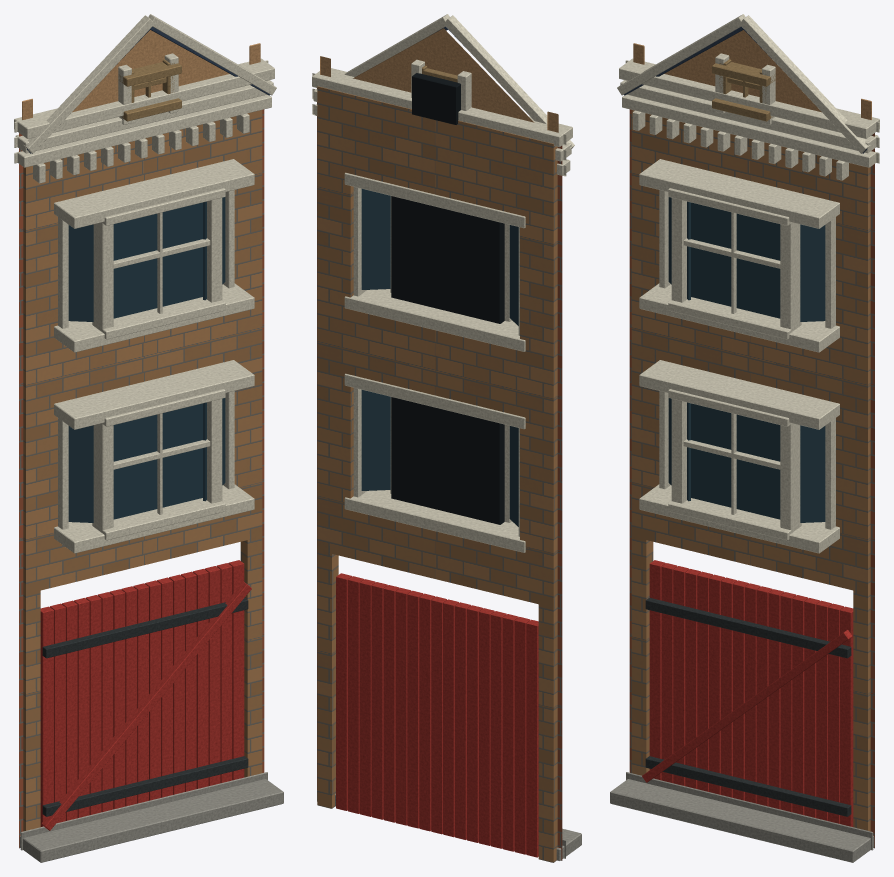
Rendered from VICT2A_lod1.glb.
3 views of the same model, side by side, from view 1: azimuth 30°, elevation 25°; view 2: azimuth 150°, elevation 25°; view 3: azimuth 330°, elevation 25° (orthographic).
Parts seen in each view (by area): view 1: VICT2A_FRONT_LOD1; view 2: VICT2A_FRONT_LOD1; view 3: VICT2A_FRONT_LOD1.
Boxes of the visible parts, x1,y1,x2,y2 form: VICT2A_FRONT_LOD1: (14, 14, 283, 862); VICT2A_FRONT_LOD1: (312, 14, 581, 862); VICT2A_FRONT_LOD1: (610, 14, 879, 862).
Size of the model in its own units: 3.44 by 10.46 by 0.705.
12 materials, 10 textured.
